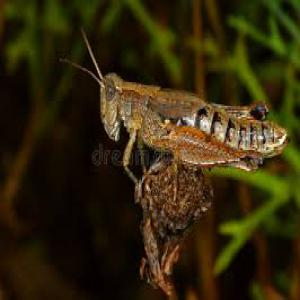locust: (77, 27, 288, 188)
